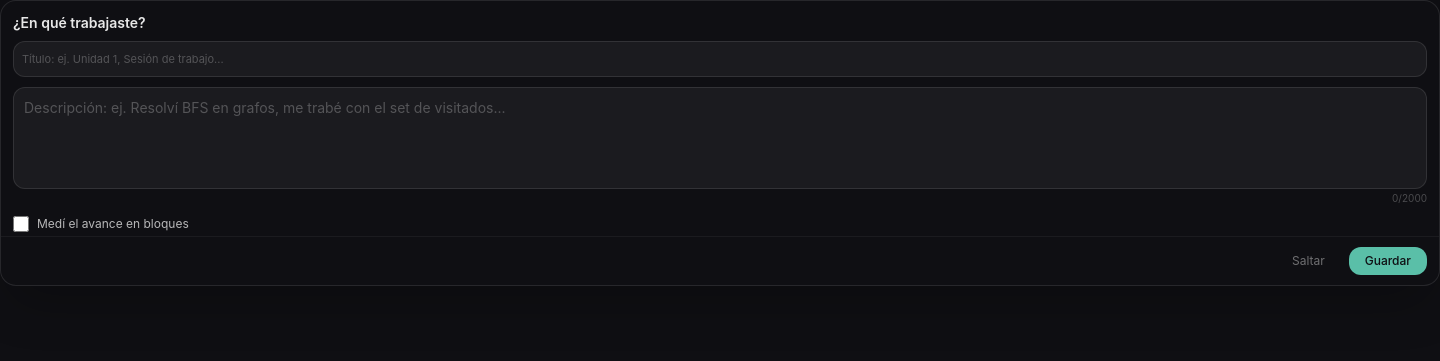
Test: JournalPrompt — con unidad configurada › el + suma de a medio bloque
The image size is (1440, 361).
Click the checkbox labelled "Medí el avance en bloques". click: {"x": 21, "y": 224}
box: [13, 216, 29, 232]
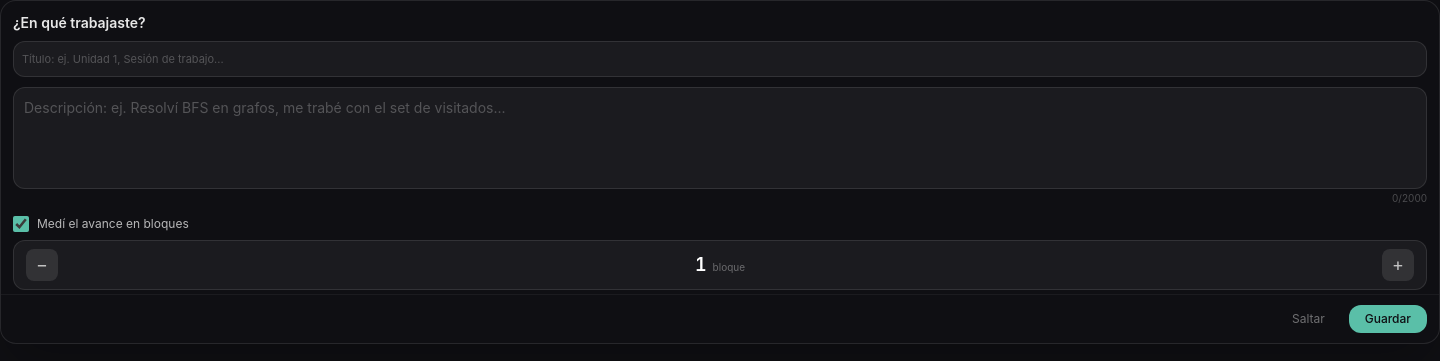
Click the button named "Sumar medio bloque". click: {"x": 1398, "y": 265}
box: [1382, 249, 1414, 281]
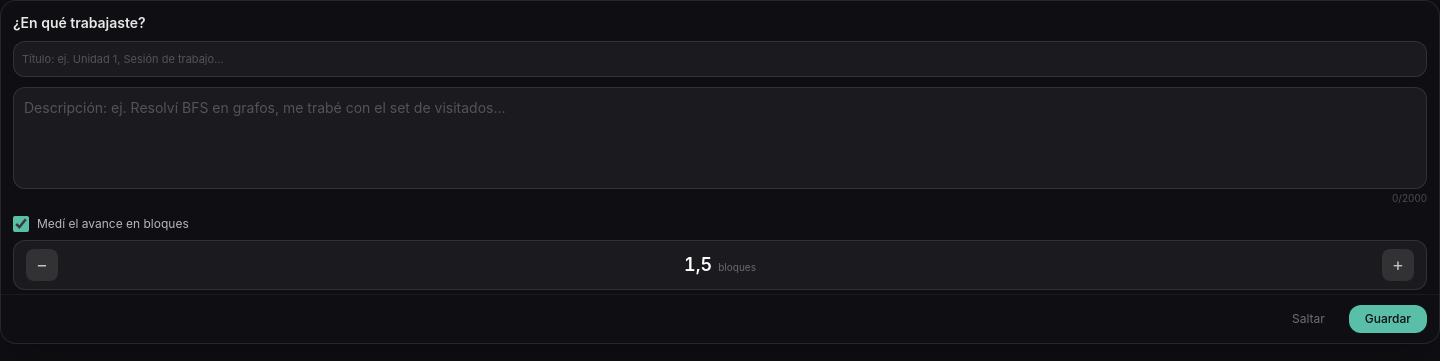
Expected: the text with test id "unit-value" reads "1,5", [684, 254, 712, 275]
